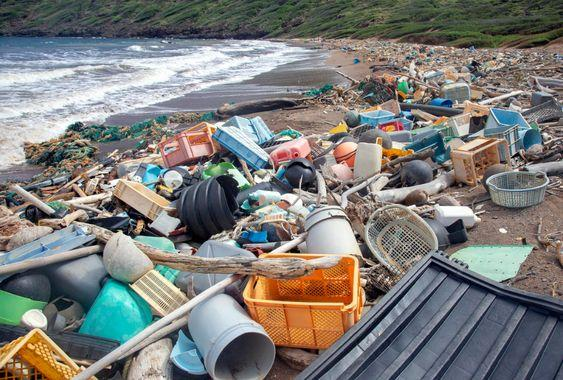HDPE: (271, 139, 311, 166)
PVC: (186, 291, 277, 380), (303, 204, 361, 254)
